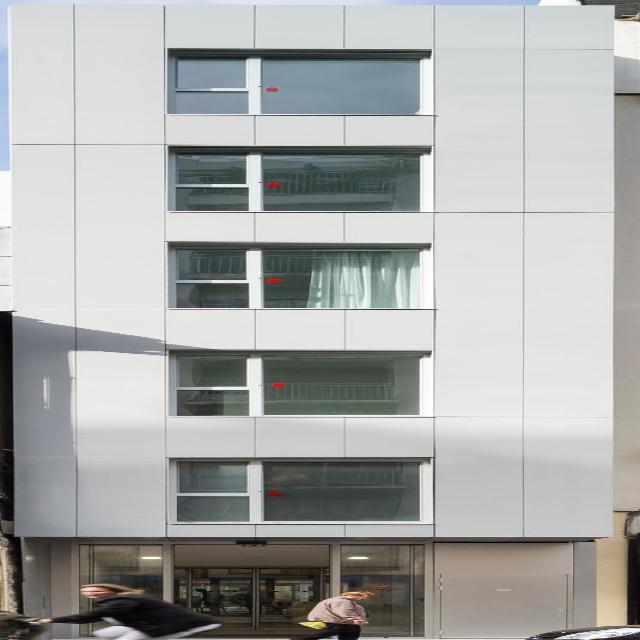door: (80, 540, 416, 632)
window: (173, 460, 416, 524), (179, 355, 424, 416), (171, 250, 427, 308), (173, 55, 421, 114), (179, 154, 425, 213)
